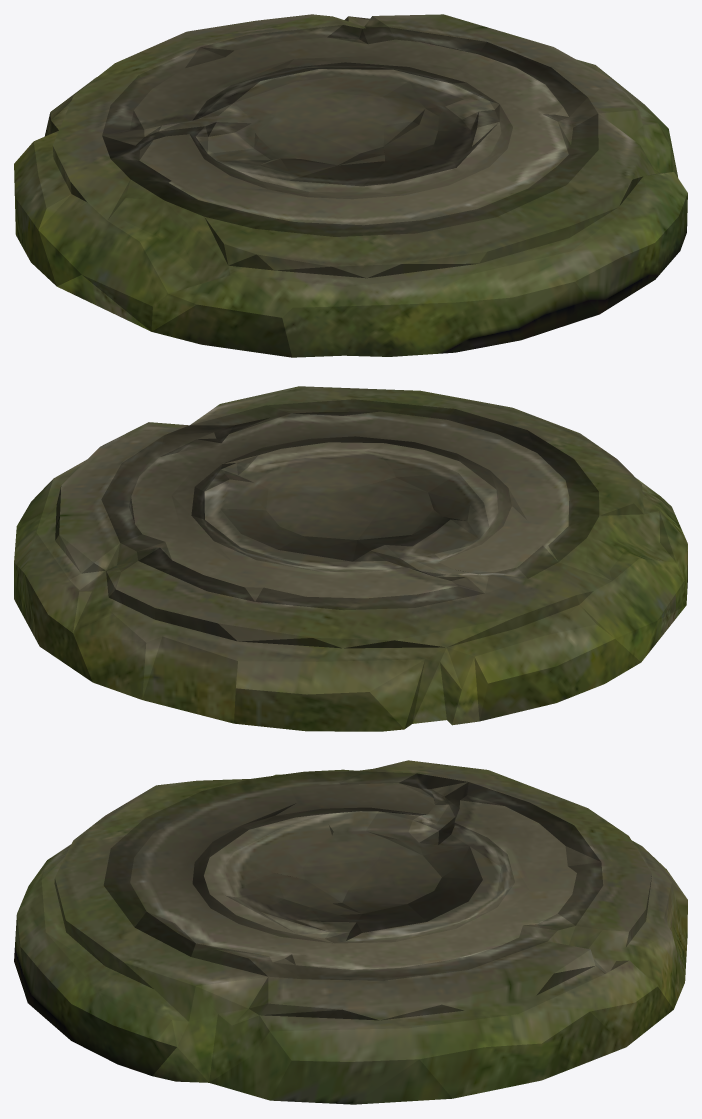
File: effigy_pedestal_radiant.fbx
The picture shows the model from 3 angles, top to bottom: view 1: azimuth 30°, elevation 25°; view 2: azimuth 150°, elevation 25°; view 3: azimuth 270°, elevation 25°; orthographic projection.
Visible parts, largest first — view 1: effigy_pedestal_radiant; view 2: effigy_pedestal_radiant; view 3: effigy_pedestal_radiant.
Boxes of the visible parts, x1,y1,x2,y2 form: effigy_pedestal_radiant: (14,14,687,357); effigy_pedestal_radiant: (14,386,687,731); effigy_pedestal_radiant: (14,760,687,1104).
Bounding box in the file's own units: 166 × 23.15 × 165.
